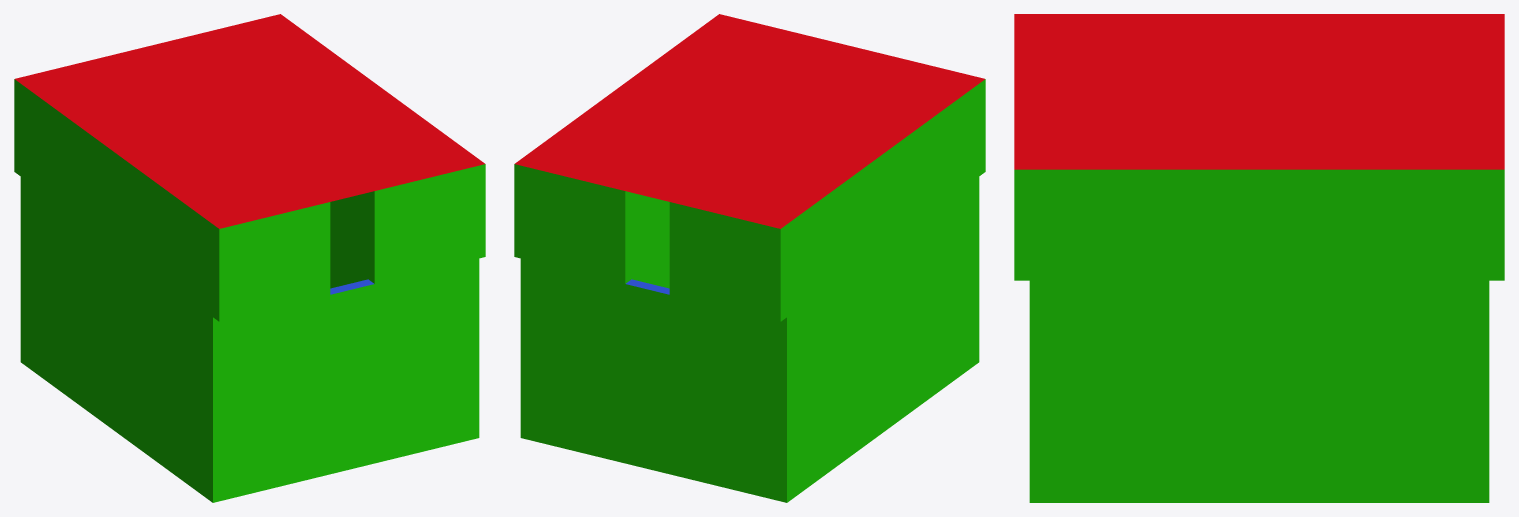
The model's file is 3x4_Room_Deep.fbx.
3 renders of one model, left to right at view 1: azimuth 30°, elevation 25°; view 2: azimuth 150°, elevation 25°; view 3: azimuth 270°, elevation 25°, orthographic. The views are drawn at different scales.
Visible parts, largest first — view 1: 3x4 Room Deep; view 2: 3x4 Room Deep; view 3: 3x4 Room Deep.
Part boxes in pixels (x1,y1,x2,y2): 3x4 Room Deep: [14, 14, 485, 502]; 3x4 Room Deep: [514, 14, 985, 502]; 3x4 Room Deep: [1014, 14, 1504, 502].
Bounding box in the file's own units: 2400 × 2400 × 3200.
